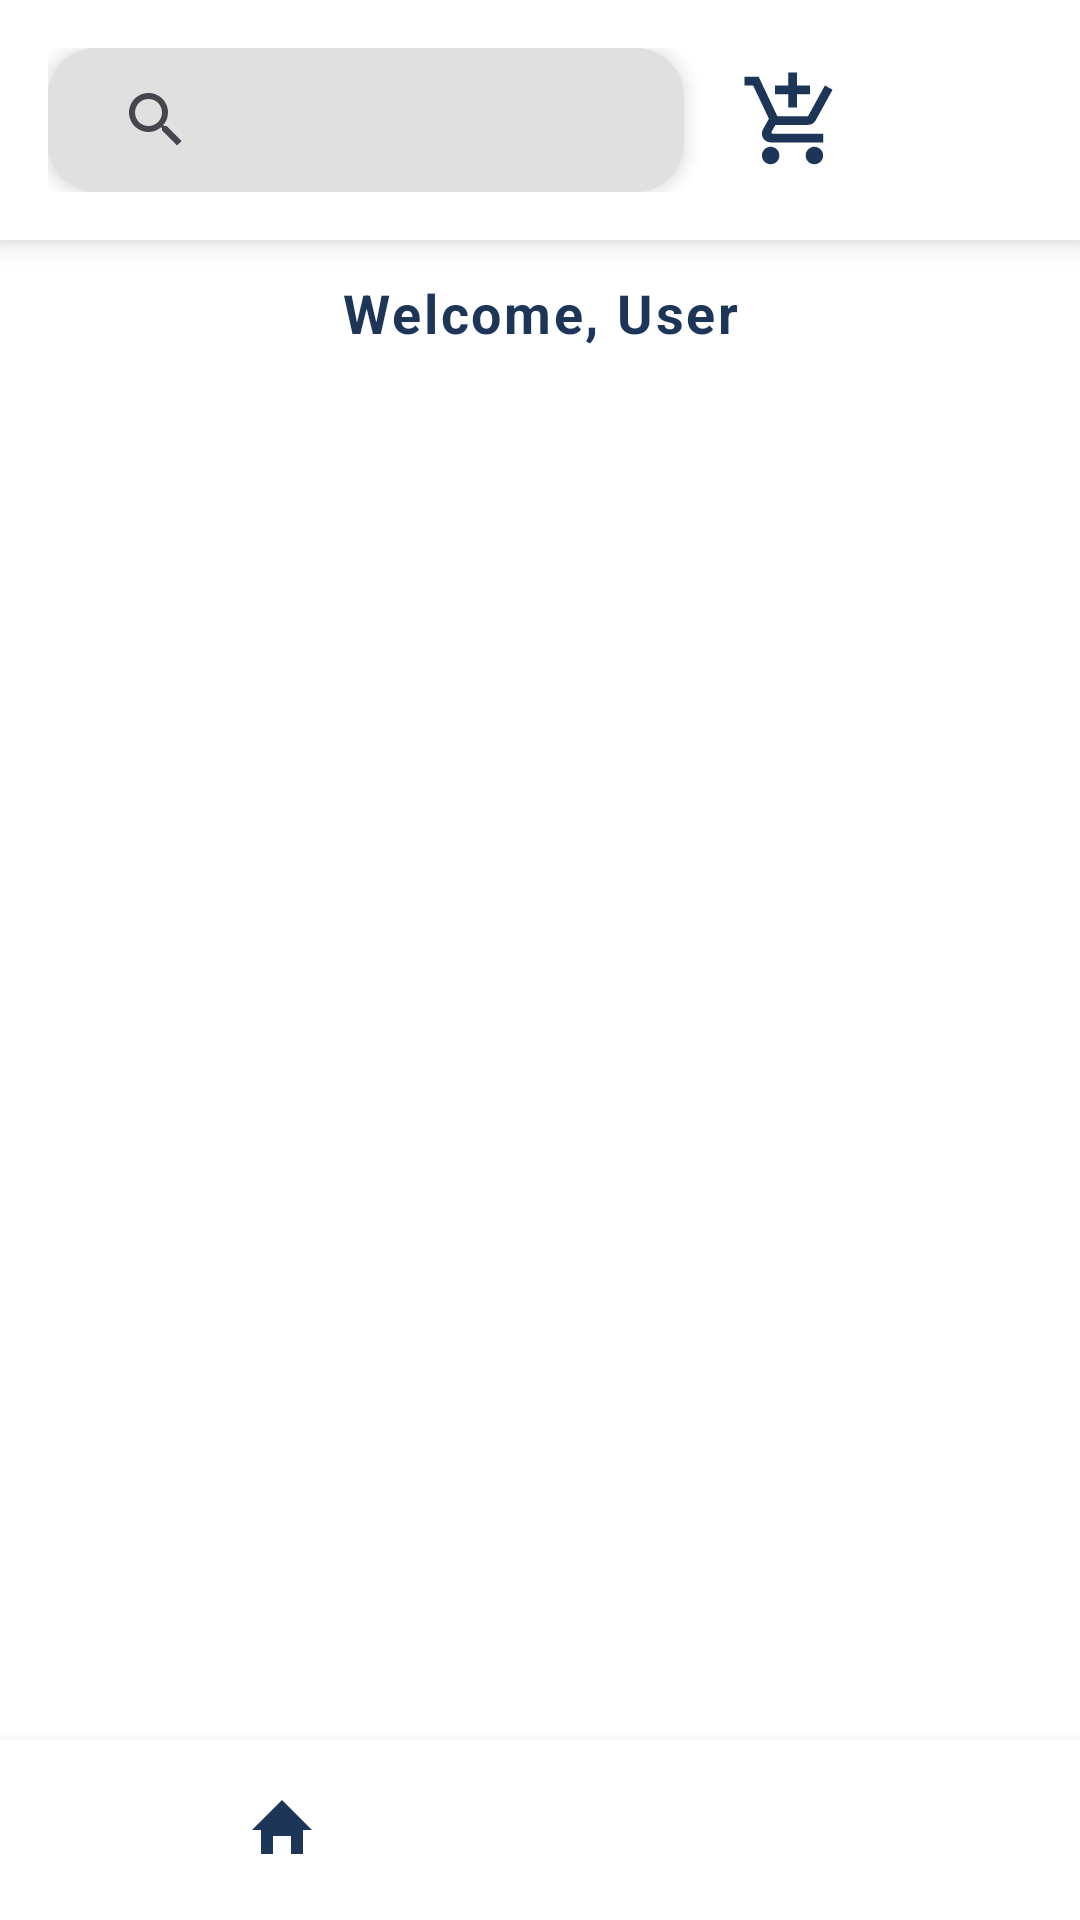

Point at icon controls on the screen. Image size 1080x1920, points as (x=x, y=y).
Cart: (x=788, y=118)
Home: (x=282, y=1827)
